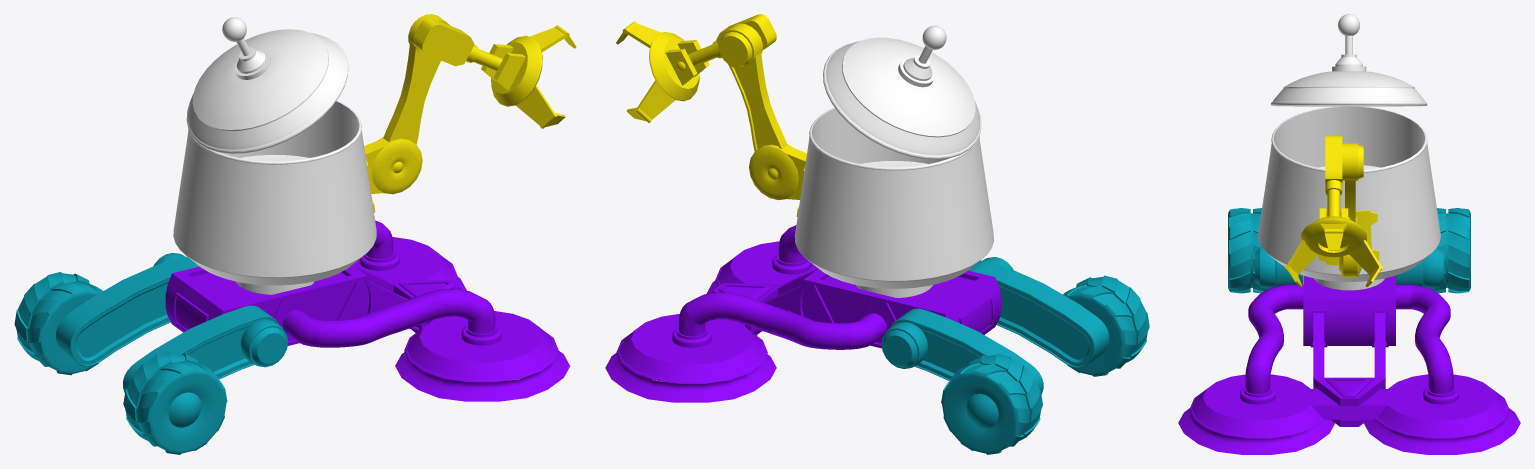
File: JanitorBot.fbx
The picture shows the model from 3 angles, left to right: view 1: azimuth 30°, elevation 25°; view 2: azimuth 150°, elevation 25°; view 3: azimuth 270°, elevation 25°; orthographic projection. The views are drawn at different scales.
Visible parts, largest first — view 1: Body, Cleaner, Wheels, Arm; view 2: Body, Cleaner, Wheels, Arm; view 3: Cleaner, Body, Wheels, Arm.
Boxes of the visible parts, x1,y1,x2,y2 form: Body: (173, 17, 376, 294); Cleaner: (165, 220, 569, 401); Wheels: (14, 252, 288, 454); Arm: (364, 14, 576, 212); Body: (794, 25, 993, 297); Cleaner: (605, 225, 1001, 402); Wheels: (881, 257, 1149, 454); Arm: (616, 14, 806, 216); Cleaner: (1178, 275, 1520, 454); Body: (1258, 14, 1440, 290); Wheels: (1228, 208, 1470, 293); Arm: (1285, 135, 1382, 286).
Bounding box in the file's own units: 113 × 80.54 × 77.18.
